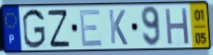9: (140, 5, 162, 49)
E: (78, 8, 104, 48)
G: (21, 7, 47, 50)
H: (163, 6, 191, 47)
K: (107, 8, 129, 47)
Z: (46, 8, 72, 49)
